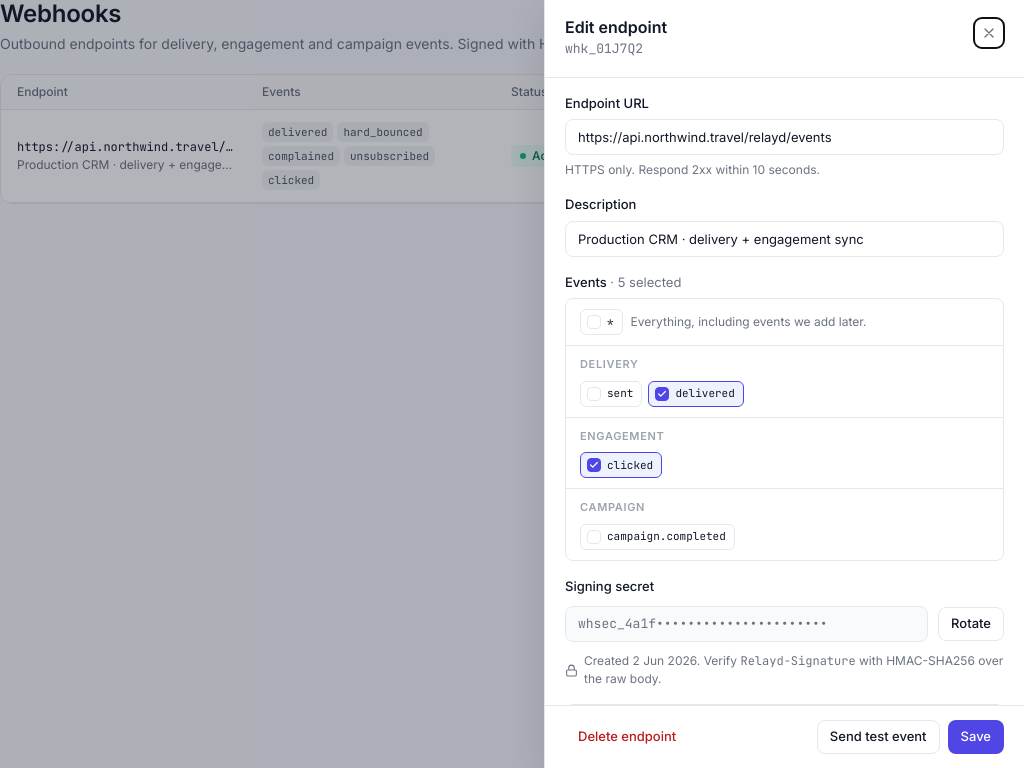
Scenario: J4b — the edit drawer › says what deleting costs, and points at the softer option
What coordinates should you click on to do the following:
click the button "Delete endpoint"
I would click on:
 (627, 737)
Its box is [565,720,689,754].
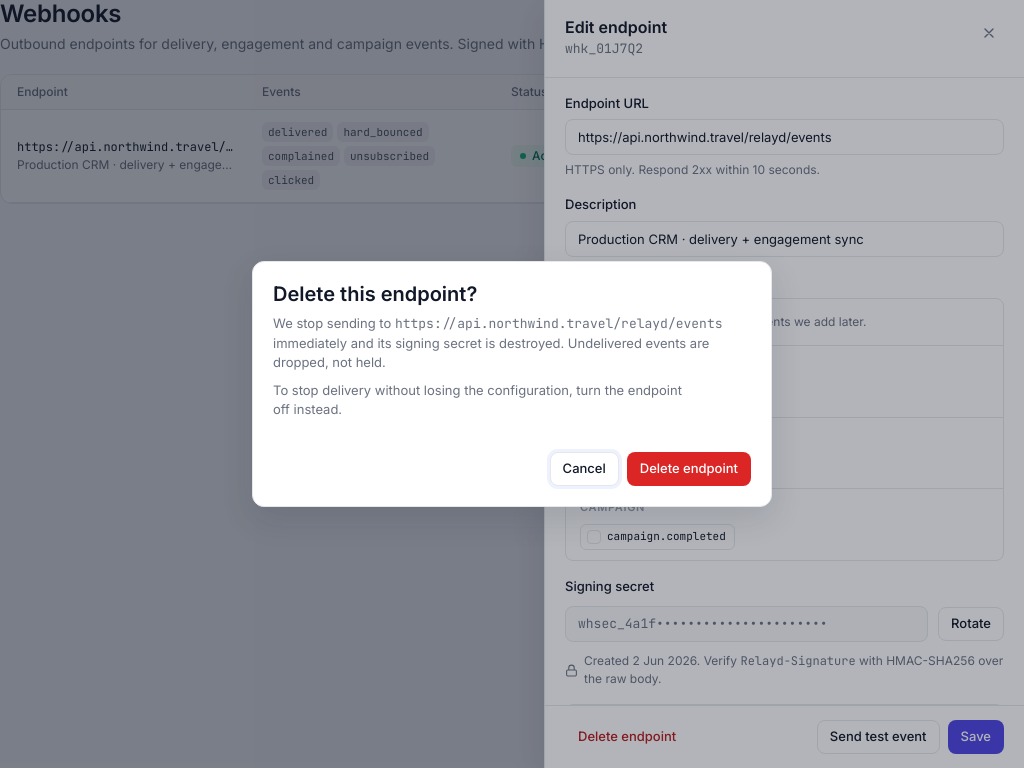
Expected: the heading "Delete this endpoint?" is shown, [273,282,477,306]
Expected: the text "Undelivered events are dropped, not held" is shown, [273,335,709,370]
Expected: the text "turn the endpoint off instead" is shown, [273,382,682,417]
